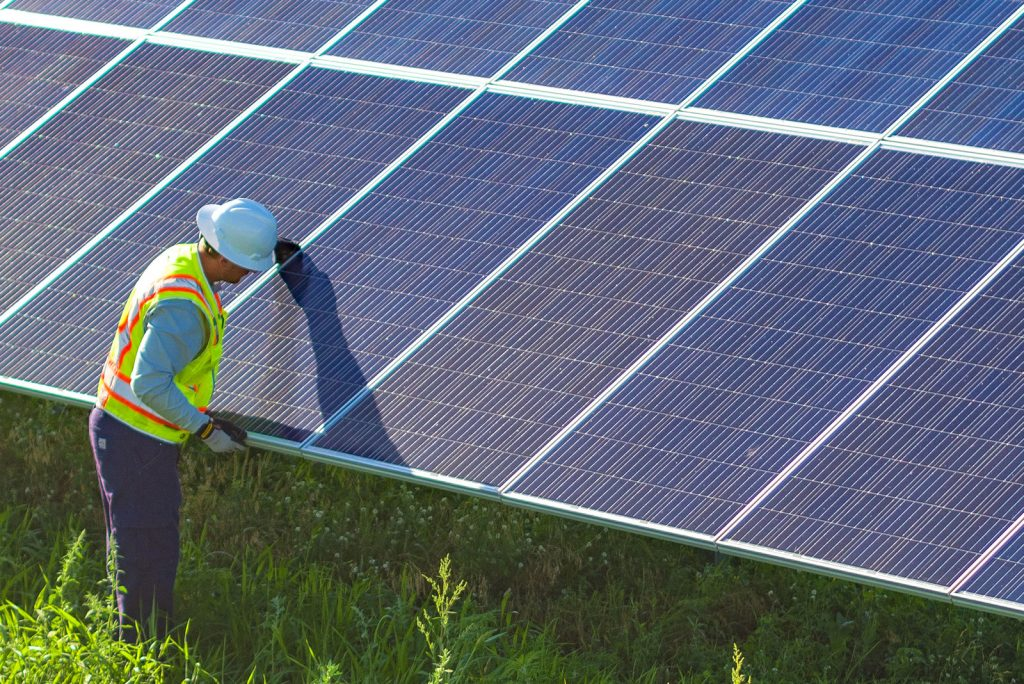Hard Hat: (198, 198, 280, 282)
Person: (89, 193, 279, 648)
Vest: (98, 233, 259, 443)
